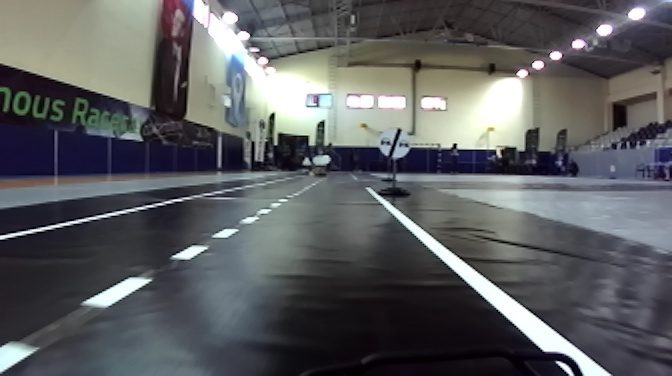sollama_serbest: (377, 129, 409, 160)
